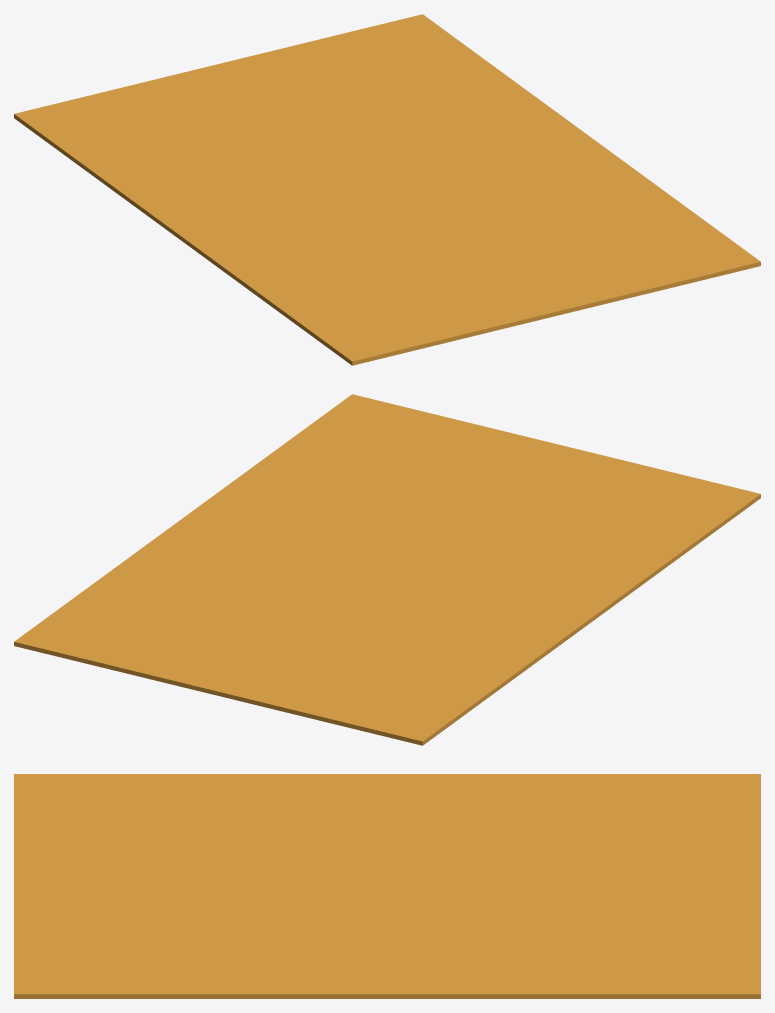
The model's file is SM_Rug_Victorian_Large.fbx.
The picture shows the model from 3 angles, top to bottom: view 1: azimuth 30°, elevation 25°; view 2: azimuth 150°, elevation 25°; view 3: azimuth 270°, elevation 25°; orthographic projection. The views are drawn at different scales.
Visible parts, largest first — view 1: rug-victorian-large; view 2: rug-victorian-large; view 3: rug-victorian-large.
Boxes of the visible parts, bbox=[...] form: rug-victorian-large: bbox=[14, 14, 760, 365]; rug-victorian-large: bbox=[14, 394, 760, 745]; rug-victorian-large: bbox=[14, 774, 760, 998].
Size of the model in its own units: 3 by 0.03 by 4.3.
